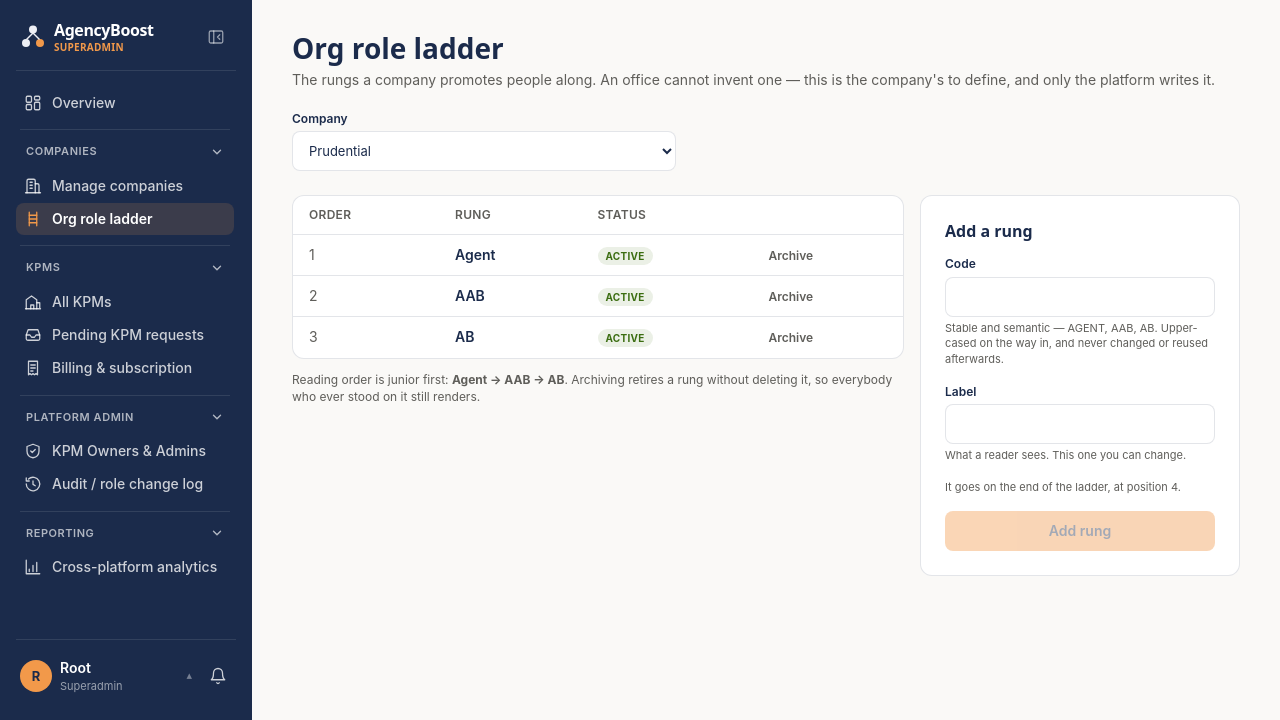
Test: org role ladder (P3.5-T7) › AC-3: archives rather than deletes, and offers the rung back
This screenshot has width=1280, height=720.
Step 1. Click the 2nd button "Archive" → [791, 297], box [768,288,813,305]
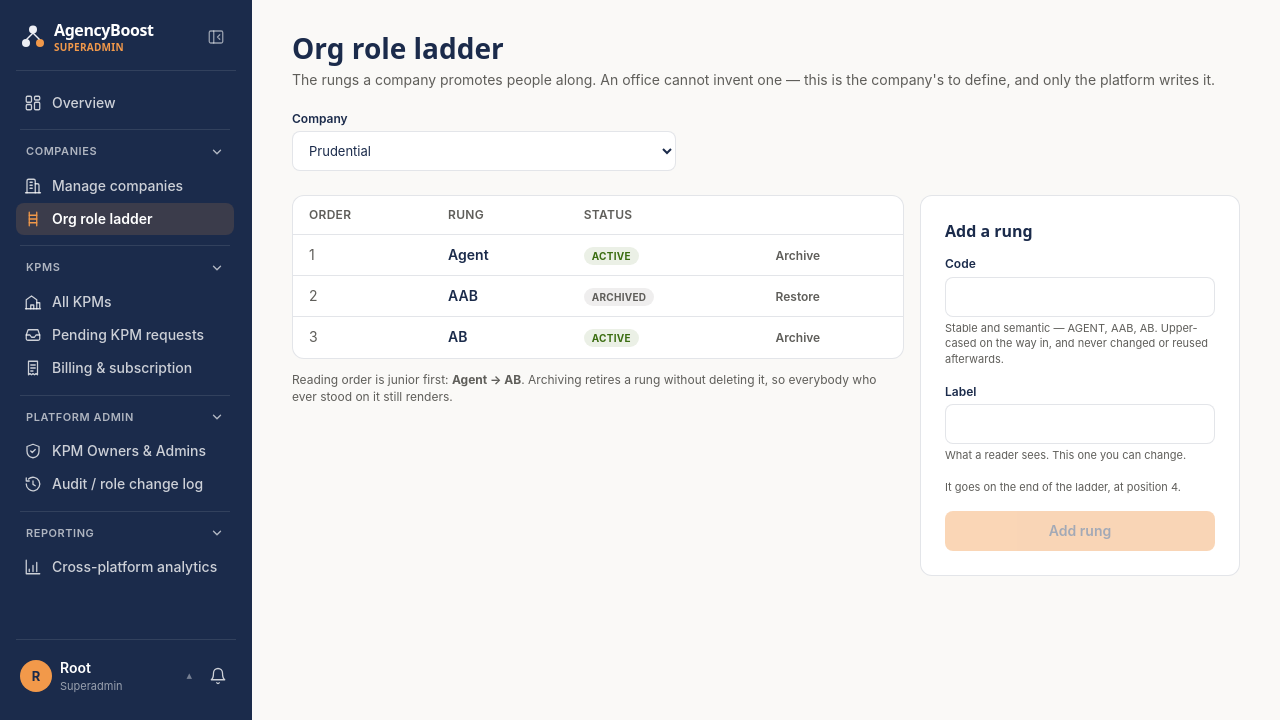
expect the button "Restore" is shown: met, box [776,288,820,305]
